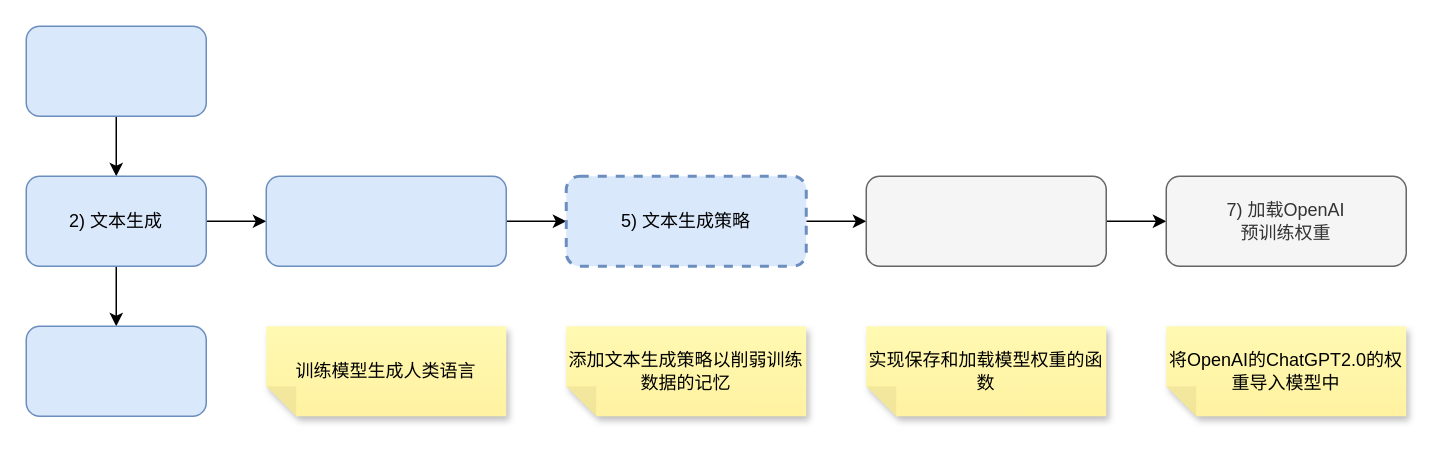
Image size: 1442x453. Some labels were removed from this diagram. The centre of each missing label's shape, as x and y in pixels:
1) 文本生成: the point at 115,70
3) 训练和验证 损失函数: the point at 115,370
4) LLM训练函数: the point at 385,220
6) 权重保存和加载: the point at 985,220
